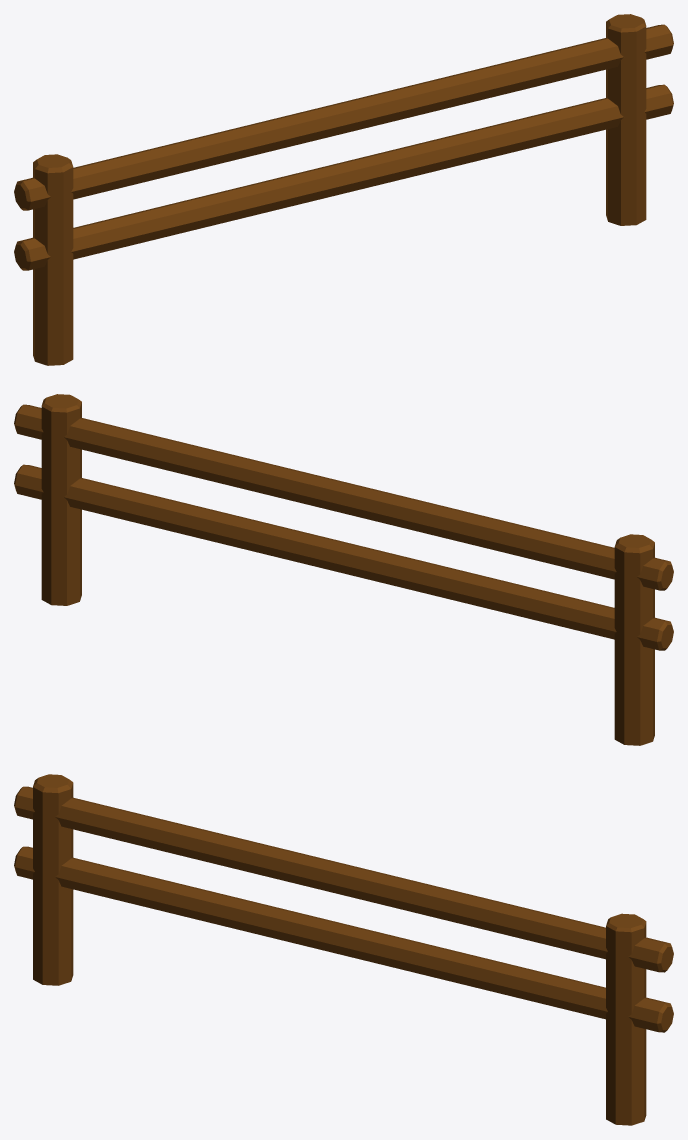
File: envFence.fbx
3 renders of one model, top to bottom at view 1: azimuth 30°, elevation 25°; view 2: azimuth 150°, elevation 25°; view 3: azimuth 330°, elevation 25°, orthographic.
Visible parts, largest first — view 1: envFence; view 2: envFence; view 3: envFence.
Boxes of the visible parts, x1,y1,x2,y2 form: envFence: (14, 14, 673, 365); envFence: (14, 394, 673, 745); envFence: (14, 774, 673, 1125).
Bounding box in the file's own units: 8.07 × 2.34 × 0.4521.
